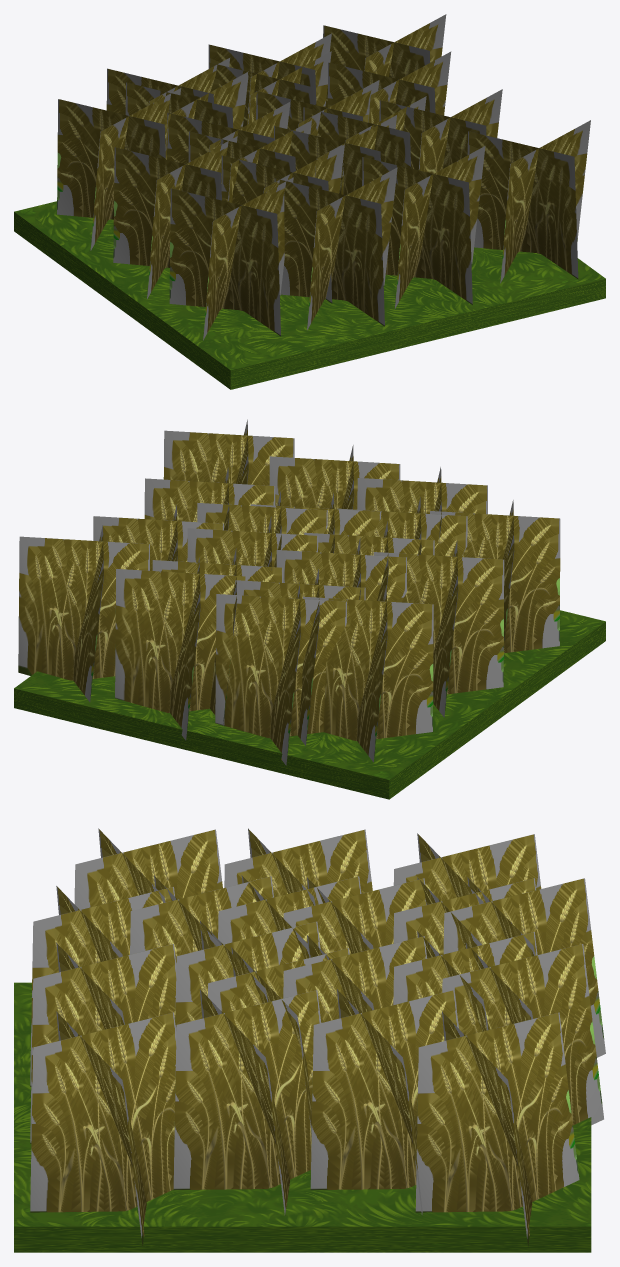
The model's file is TitleStage.fbx.
The picture shows the model from 3 angles, top to bottom: view 1: azimuth 30°, elevation 25°; view 2: azimuth 150°, elevation 25°; view 3: azimuth 270°, elevation 25°; orthographic projection. The views are drawn at different scales.
Visible parts, largest first — view 1: Cube, Rye_Clone___15_, Rye_Clone___19_, Rye_Clone___12_, Rye_Clone___11_, Rye_Clone___13_, Rye_Clone___14_, Rye_Clone___16_, Rye_Clone___17_, Rye_Clone___18_, Rye_Clone___2_, Rye_Clone___7_ (+8 smaller); view 2: Cube, Rye_Clone___9_, Rye_Clone___17_, Rye_Clone___10_, Rye_Clone___13_, Rye_Clone___14_, Rye_Clone___15_, Rye_Clone___19_, Rye_Clone___11_, Rye_Clone___3_, Rye_Clone___12_, Rye_Clone___16_ (+8 smaller); view 3: Cube, Rye_Clone___17_, Rye_Clone___19_, Rye_Clone___16_, Rye_Clone___18_, Rye_Clone___10_, Rye_Clone___11_, Rye_Clone___9_, Rye_Clone___15_, Rye_Clone___12_, Rye_Clone___4_, Rye_Clone___14_ (+8 smaller).
Boxes of the visible parts, x1,y1,x2,y2 form: Cube: [14, 201, 605, 389]; Rye_Clone___15_: [169, 177, 293, 340]; Rye_Clone___19_: [467, 120, 590, 283]; Rye_Clone___12_: [274, 167, 397, 330]; Rye_Clone___11_: [362, 146, 485, 308]; Rye_Clone___13_: [57, 88, 181, 250]; Rye_Clone___14_: [113, 136, 237, 298]; Rye_Clone___16_: [379, 89, 502, 173]; Rye_Clone___17_: [323, 14, 446, 107]; Rye_Clone___18_: [327, 51, 451, 123]; Rye_Clone___2_: [221, 144, 344, 303]; Rye_Clone___7_: [125, 71, 248, 159]; Cube: [14, 610, 605, 799]; Rye_Clone___9_: [215, 582, 346, 765]; Rye_Clone___17_: [18, 525, 149, 701]; Rye_Clone___10_: [115, 557, 246, 740]; Rye_Clone___13_: [303, 585, 433, 762]; Rye_Clone___14_: [373, 540, 504, 717]; Rye_Clone___15_: [430, 500, 560, 653]; Rye_Clone___19_: [163, 419, 294, 485]; Rye_Clone___11_: [269, 445, 400, 509]; Rye_Clone___3_: [276, 538, 406, 602]; Rye_Clone___12_: [357, 467, 487, 540]; Rye_Clone___16_: [144, 467, 275, 530]; Cube: [14, 982, 591, 1252]; Rye_Clone___17_: [415, 1011, 579, 1246]; Rye_Clone___19_: [30, 1011, 176, 1246]; Rye_Clone___16_: [173, 989, 321, 1215]; Rye_Clone___18_: [310, 989, 458, 1215]; Rye_Clone___10_: [442, 943, 603, 1125]; Rye_Clone___11_: [30, 943, 176, 1143]; Rye_Clone___9_: [443, 877, 605, 1057]; Rye_Clone___15_: [74, 828, 222, 909]; Rye_Clone___12_: [30, 886, 174, 1086]; Rye_Clone___4_: [283, 935, 427, 1022]; Rye_Clone___14_: [224, 828, 372, 905].
Size of the model in its own units: 1069 by 362 by 1025.
2 materials, 2 textured.
